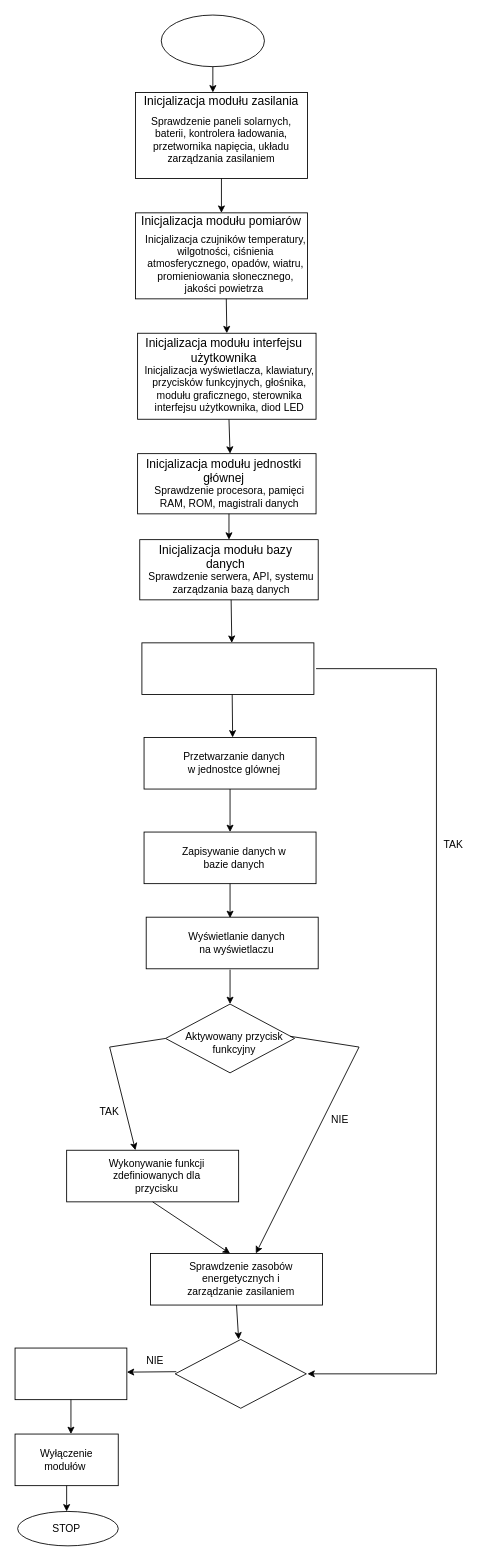
Image size: 495x1561. Some labels were removed from this diagram. Each missing label, with the centre of its shape:
"Odczytywanie danych z czujników z modułu pomiarów" goes at (x=227, y=668).
"START" goes at (x=212, y=40).
"Wysyłanie informacji o braku zasobów energetycznych" goes at (x=70, y=1373).
"Zasoby energetyczne wystarczające" goes at (x=240, y=1373).
